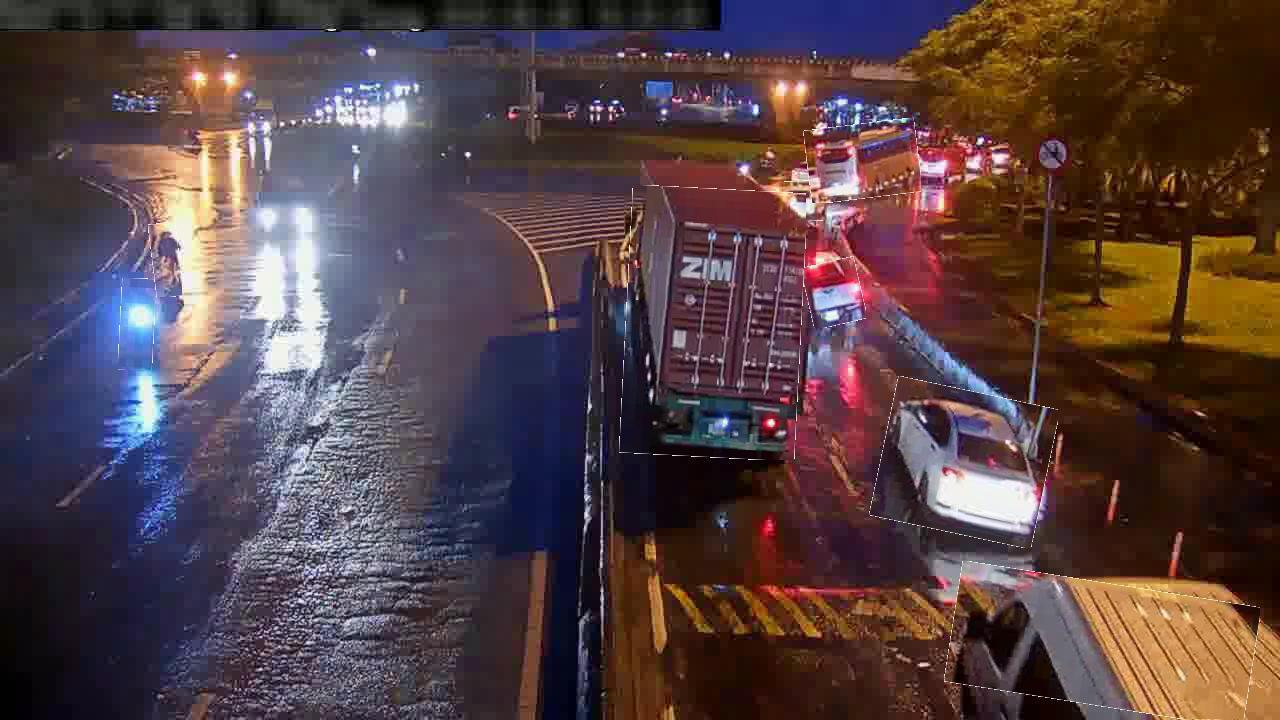14: (948, 573, 1258, 717), (805, 121, 920, 201)
8: (623, 187, 804, 459)
container: (876, 384, 1053, 542), (804, 259, 864, 327), (779, 180, 828, 222)
motorbike: (119, 279, 155, 371), (150, 222, 181, 298)
